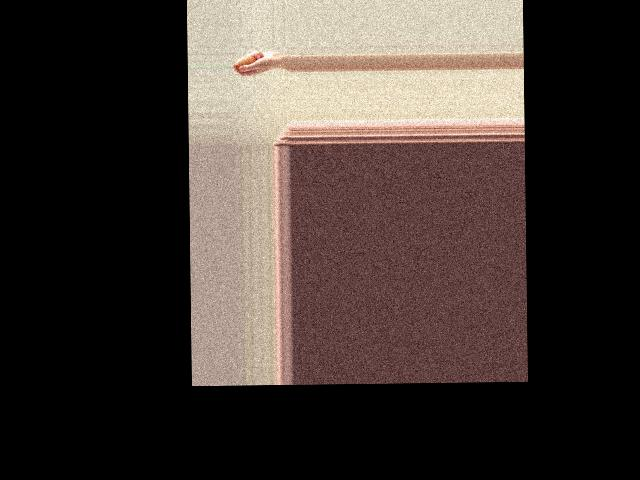egg: (236, 54, 256, 70)
